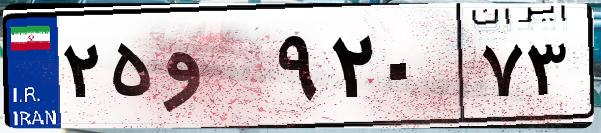0: (385, 28, 445, 110)
2: (330, 28, 385, 110), (57, 26, 110, 100)
3: (525, 38, 570, 115)
5: (110, 28, 158, 98)
7: (475, 38, 525, 113)
9: (270, 28, 330, 110)
و: (158, 20, 270, 120)
